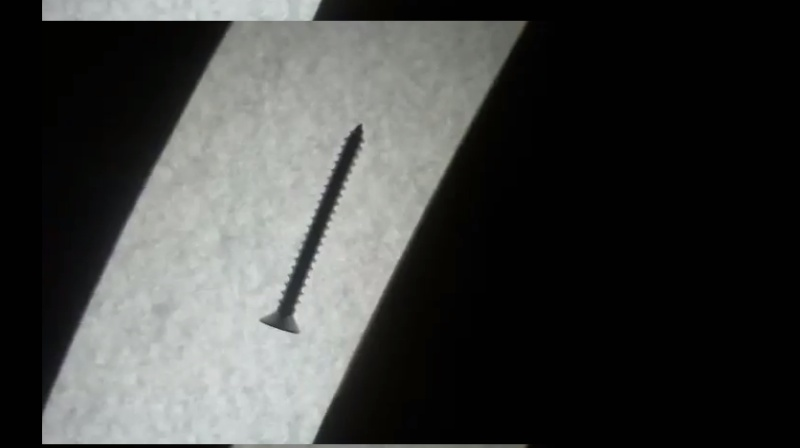S002: (254, 121, 366, 339)
